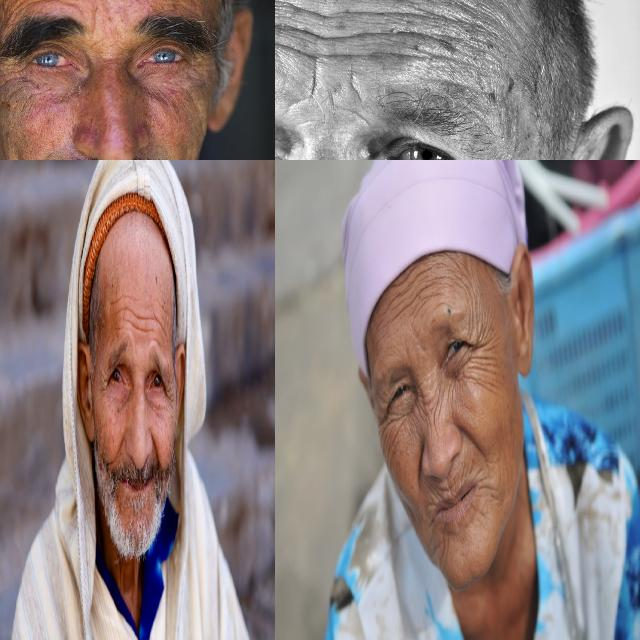bunny_line: (432, 391, 444, 436), (417, 401, 432, 435)
chin: (481, 474, 498, 501), (438, 529, 450, 559)
crows_feet: (0, 53, 23, 93), (470, 323, 487, 368), (379, 410, 393, 440), (98, 369, 109, 397), (165, 382, 175, 410)
forehead: (308, 6, 352, 64), (422, 8, 468, 52), (370, 4, 412, 44), (275, 1, 295, 50), (20, 0, 92, 12), (408, 272, 425, 311), (429, 262, 444, 298), (154, 310, 171, 341), (132, 310, 152, 336), (110, 292, 129, 316), (387, 286, 403, 312)
frown_line: (342, 72, 370, 106), (304, 72, 322, 102), (417, 379, 430, 412)
gummy_smile: (460, 422, 482, 453), (114, 433, 126, 459), (151, 434, 160, 462)
smoker_lines: (430, 482, 453, 500), (457, 462, 476, 481)
